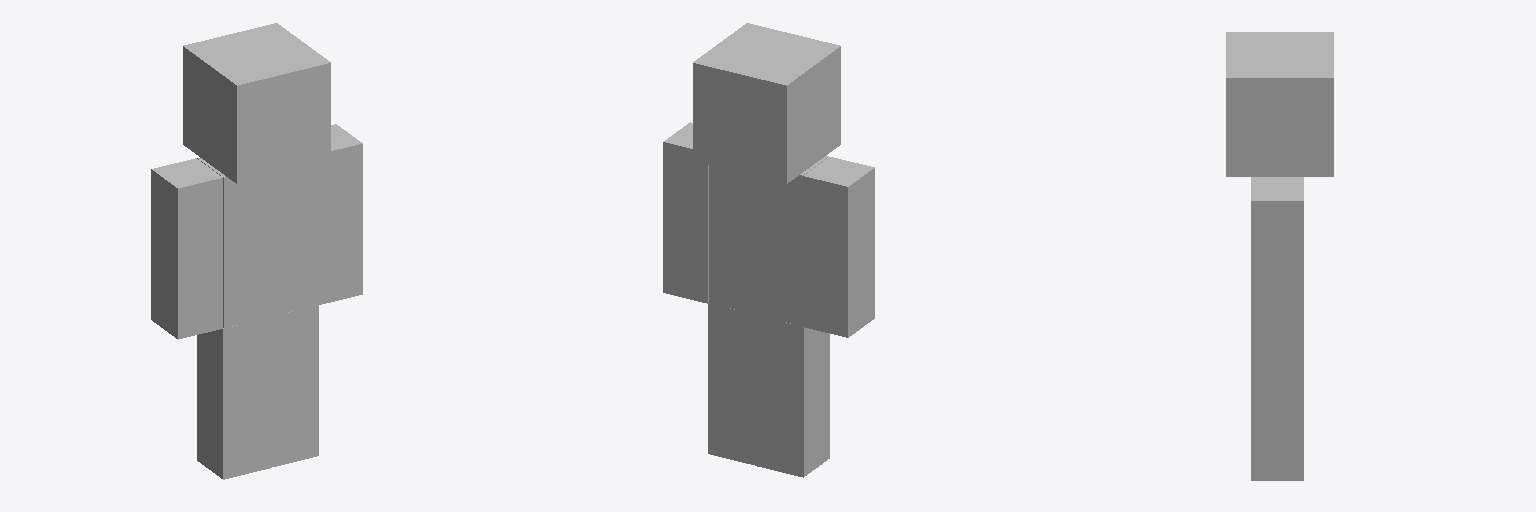
The model's file is steve.obj.
The picture shows the model from 3 angles: view 1: azimuth 30°, elevation 25°; view 2: azimuth 150°, elevation 25°; view 3: azimuth 270°, elevation 25°; orthographic projection.
Parts seen in each view (by area): view 1: Cube.002; view 2: Cube.002; view 3: Cube.002.
Part boxes in pixels (x1,y1,x2,y2): Cube.002: (151, 23, 362, 479); Cube.002: (663, 23, 874, 477); Cube.002: (1226, 32, 1333, 480).
Bounding box in the file's own units: 2.43 × 5.06 × 1.24.